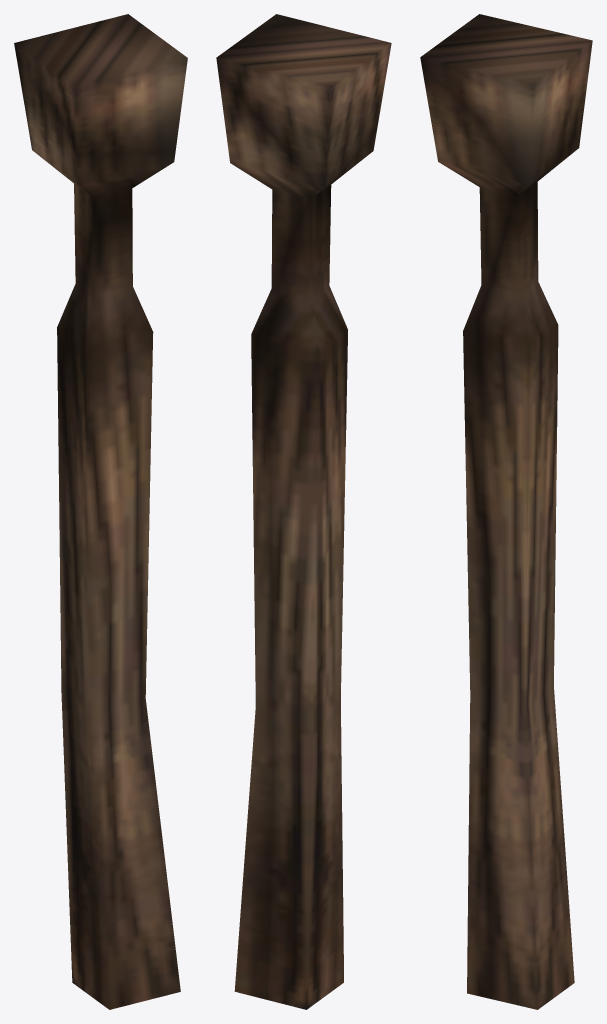
The model's file is tent_01_lamp1.fbx.
3 views of the same model, side by side, from view 1: azimuth 30°, elevation 25°; view 2: azimuth 150°, elevation 25°; view 3: azimuth 330°, elevation 25° (orthographic).
Parts seen in each view (by area): view 1: Object02; view 2: Object02; view 3: Object02.
Part boxes in pixels (x1,y1,x2,y2): Object02: (14,14,187,1009); Object02: (216,14,391,1009); Object02: (420,14,592,1009).
Size of the model in its own units: 0.5833 by 4.58 by 0.5276.
